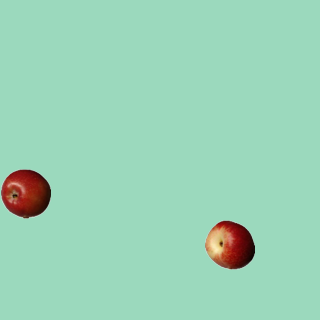Apple Braeburn: (0, 168, 50, 218)
Nectarine: (204, 219, 254, 269)
